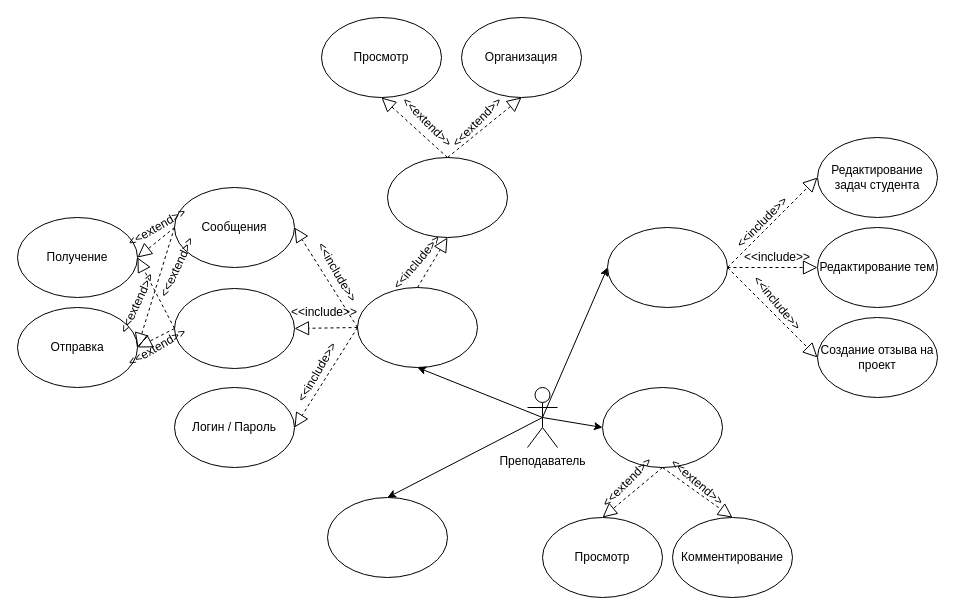
The diagram is 955 pixels wide and 615 high, and some of its shapes have lost their labels. The centre of each missing label's shape, as x and y in pixels:
"Консультации" goes at (447,197).
"Личный кабинет" goes at (417,327).
"Просмотр студентов" goes at (387,537).
"Уведомления" goes at (234,328).
"Управление материалами" goes at (662,427).
"Управление проектов" goes at (667,267).
